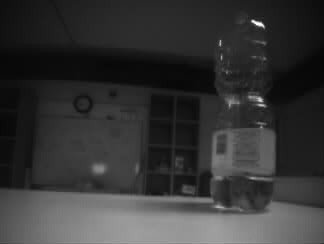Bottle: (207, 10, 276, 213)
